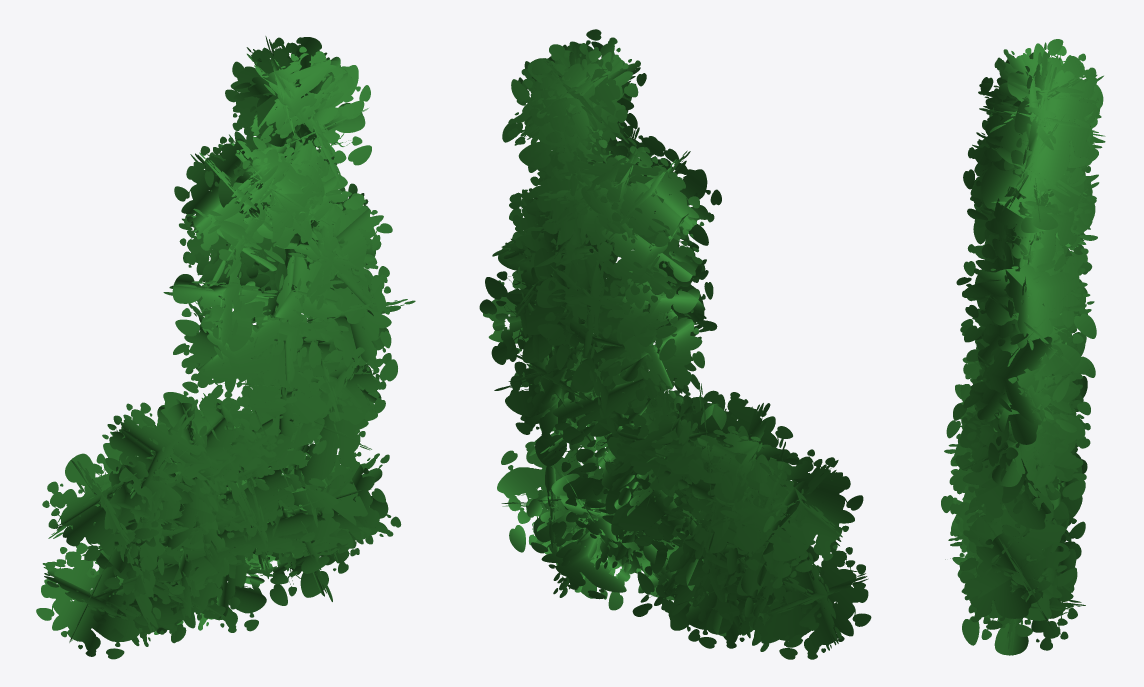
The model's file is SM_ENV_bush_town_04.fbx.
3 renders of one model, left to right at view 1: azimuth 30°, elevation 25°; view 2: azimuth 150°, elevation 25°; view 3: azimuth 270°, elevation 25°, orthographic. The views are drawn at different scales.
Visible parts, largest first — view 1: SM_ENV_bush_town_04_LOD0; view 2: SM_ENV_bush_town_04_LOD0; view 3: SM_ENV_bush_town_04_LOD0.
Part boxes in pixels (left/top/right/bottom): SM_ENV_bush_town_04_LOD0: left=36, top=36, right=415, bottom=659; SM_ENV_bush_town_04_LOD0: left=479, top=29, right=871, bottom=659; SM_ENV_bush_town_04_LOD0: left=941, top=39, right=1105, bottom=655.
Bounding box in the file's own units: 166 × 240 × 69.69.
